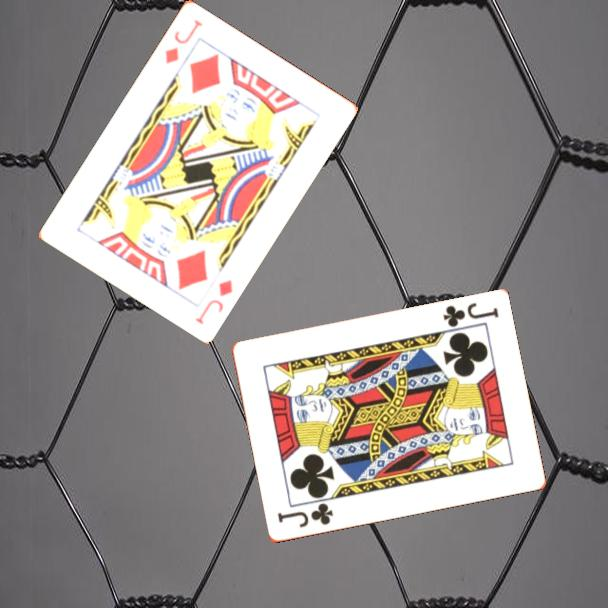c11: (439, 299, 501, 331), (273, 500, 336, 531)
d11: (192, 275, 236, 327), (161, 15, 205, 66)
